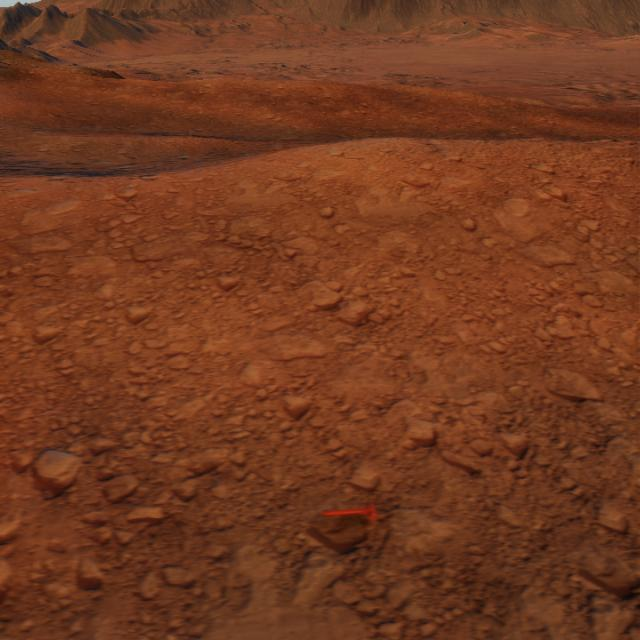newhammer: (322, 499, 376, 522)
